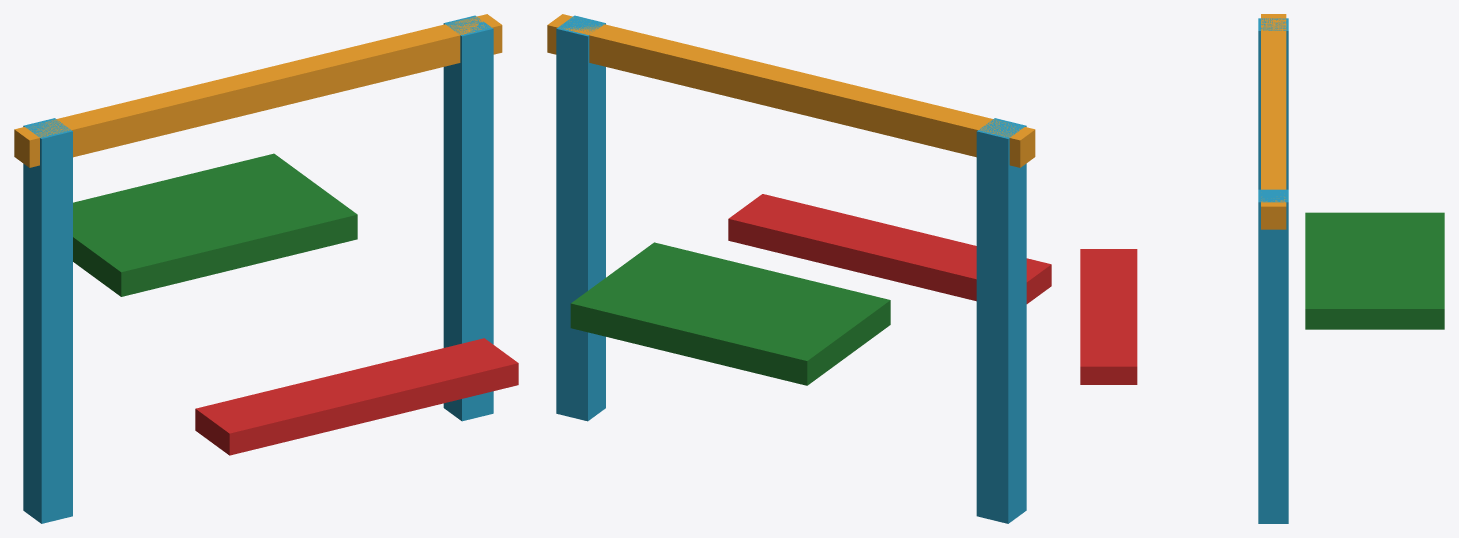
The model's file is playground.dae.
3 renders of one model, left to right at view 1: azimuth 30°, elevation 25°; view 2: azimuth 150°, elevation 25°; view 3: azimuth 270°, elevation 25°, orthographic. The views are drawn at different scales.
Visible parts, largest first — view 1: platform, frame_left, crossbar, slide, frame_right; view 2: platform, frame_left, crossbar, frame_right, slide; view 3: platform, frame_right, slide, crossbar, frame_left.
Boxes of the visible parts, x1,y1,x2,y2 form: platform: [73, 153, 357, 296]; frame_left: [23, 118, 72, 523]; crossbar: [14, 14, 502, 167]; slide: [195, 338, 518, 455]; frame_right: [443, 15, 493, 421]; platform: [570, 242, 890, 385]; frame_left: [976, 118, 1026, 523]; crossbar: [547, 14, 1035, 167]; frame_right: [556, 15, 605, 421]; slide: [728, 194, 1051, 303]; platform: [1305, 212, 1444, 329]; frame_right: [1258, 189, 1288, 523]; slide: [1080, 249, 1137, 384]; crossbar: [1261, 14, 1286, 229]; frame_left: [1258, 18, 1288, 189].
Bounding box in the file's own units: 3.6 × 2.88 × 2.8.
